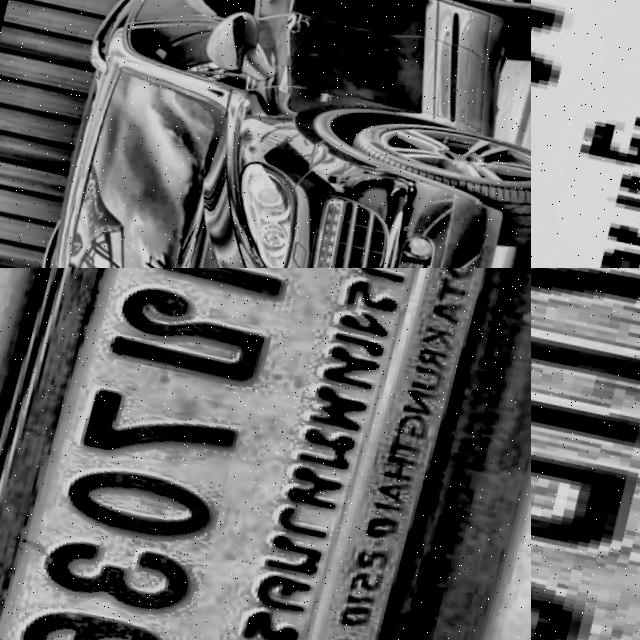license-plate: (0, 268, 531, 640), (531, 268, 640, 640), (531, 0, 640, 268)
